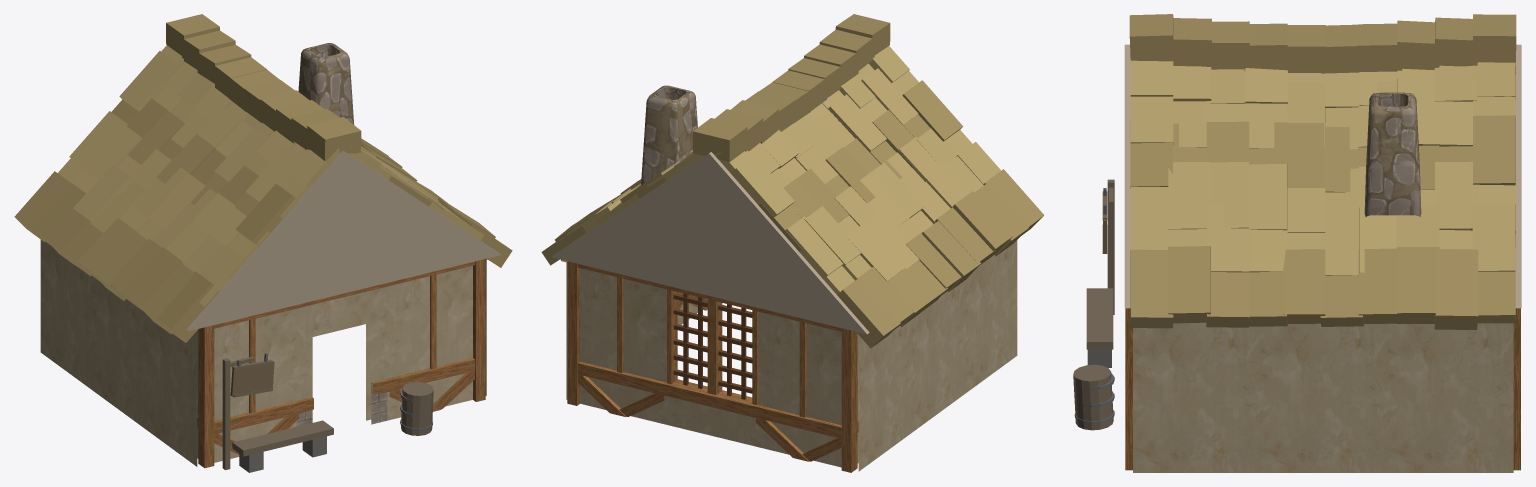
Rendered from town_inn_t1.glb.
The picture shows the model from 3 angles, left to right: view 1: azimuth 30°, elevation 25°; view 2: azimuth 150°, elevation 25°; view 3: azimuth 270°, elevation 25°; orthographic projection. The views are drawn at different scales.
Parts seen in each view (by area): view 1: hall_t1_thatch, gable, Wall_Plaster_Straight_inst.002, Wall_Plaster_Straight_inst, Wall_Plaster_Door_Flat_inst, Wall_Plaster_Straight_inst.004, Wall_Plaster_Straight_inst.006, Wall_Plaster_Straight_inst.008, Prop_Chimney2_inst, Corner_Exterior_Wood_inst, Corner_Exterior_Wood_inst.002, bench_seat (+3 smaller); view 2: hall_t1_thatch, gable.001, Wall_Plaster_Straight_inst.003, Wall_Plaster_Straight_inst.001, Wall_Plaster_WoodGrid_inst, Wall_Plaster_Straight_inst.008, Wall_Plaster_Straight_inst.004, Wall_Plaster_Straight_inst.006, Prop_Chimney2_inst, Corner_Exterior_Wood_inst.001, Corner_Exterior_Wood_inst.003; view 3: hall_t1_thatch, Wall_Plaster_Straight_inst.007, Wall_Plaster_Straight_inst.009, Wall_Plaster_Straight_inst.005, Prop_Chimney2_inst, barrel, gable, bench_seat, gable.001, Corner_Exterior_Wood_inst.002, Corner_Exterior_Wood_inst.003, board_post.
Boxes of the visible parts, bbox=[...] form: hall_t1_thatch: bbox=[14, 14, 512, 342]; gable: bbox=[186, 150, 501, 330]; Wall_Plaster_Straight_inst.002: bbox=[387, 261, 475, 420]; Wall_Plaster_Straight_inst: bbox=[214, 304, 299, 462]; Wall_Plaster_Door_Flat_inst: bbox=[296, 282, 389, 426]; Wall_Plaster_Straight_inst.004: bbox=[145, 313, 198, 466]; Wall_Plaster_Straight_inst.006: bbox=[92, 276, 144, 428]; Wall_Plaster_Straight_inst.008: bbox=[40, 240, 92, 390]; Prop_Chimney2_inst: bbox=[298, 43, 354, 124]; Corner_Exterior_Wood_inst: bbox=[198, 325, 214, 468]; Corner_Exterior_Wood_inst.002: bbox=[473, 259, 485, 401]; bench_seat: bbox=[232, 420, 333, 456]; hall_t1_thatch: bbox=[541, 14, 1044, 348]; gable.001: bbox=[551, 152, 869, 334]; Wall_Plaster_Straight_inst.003: bbox=[577, 264, 666, 424]; Wall_Plaster_Straight_inst.001: bbox=[755, 307, 841, 467]; Wall_Plaster_WoodGrid_inst: bbox=[664, 285, 758, 446]; Wall_Plaster_Straight_inst.008: bbox=[857, 320, 911, 471]; Wall_Plaster_Straight_inst.004: bbox=[964, 240, 1017, 393]; Wall_Plaster_Straight_inst.006: bbox=[911, 281, 964, 432]; Prop_Chimney2_inst: bbox=[641, 85, 697, 184]; Corner_Exterior_Wood_inst.001: bbox=[841, 328, 857, 472]; Corner_Exterior_Wood_inst.003: bbox=[567, 261, 579, 405]; hall_t1_thatch: bbox=[1129, 14, 1516, 329]; Wall_Plaster_Straight_inst.007: bbox=[1259, 323, 1386, 472]; Wall_Plaster_Straight_inst.009: bbox=[1386, 323, 1513, 472]; Wall_Plaster_Straight_inst.005: bbox=[1133, 322, 1259, 472]; Prop_Chimney2_inst: bbox=[1364, 92, 1421, 216]; barrel: bbox=[1073, 364, 1113, 430]; gable: bbox=[1124, 44, 1130, 308]; bench_seat: bbox=[1086, 288, 1113, 349]; gable.001: bbox=[1515, 44, 1521, 308]; Corner_Exterior_Wood_inst.002: bbox=[1125, 308, 1132, 470]; Corner_Exterior_Wood_inst.003: bbox=[1513, 308, 1520, 470]; board_post: bbox=[1107, 179, 1114, 314].
Size of the model in its own units: 7.59 by 6.32 by 7.07.
Materials: 19 (9 with a texture image).
